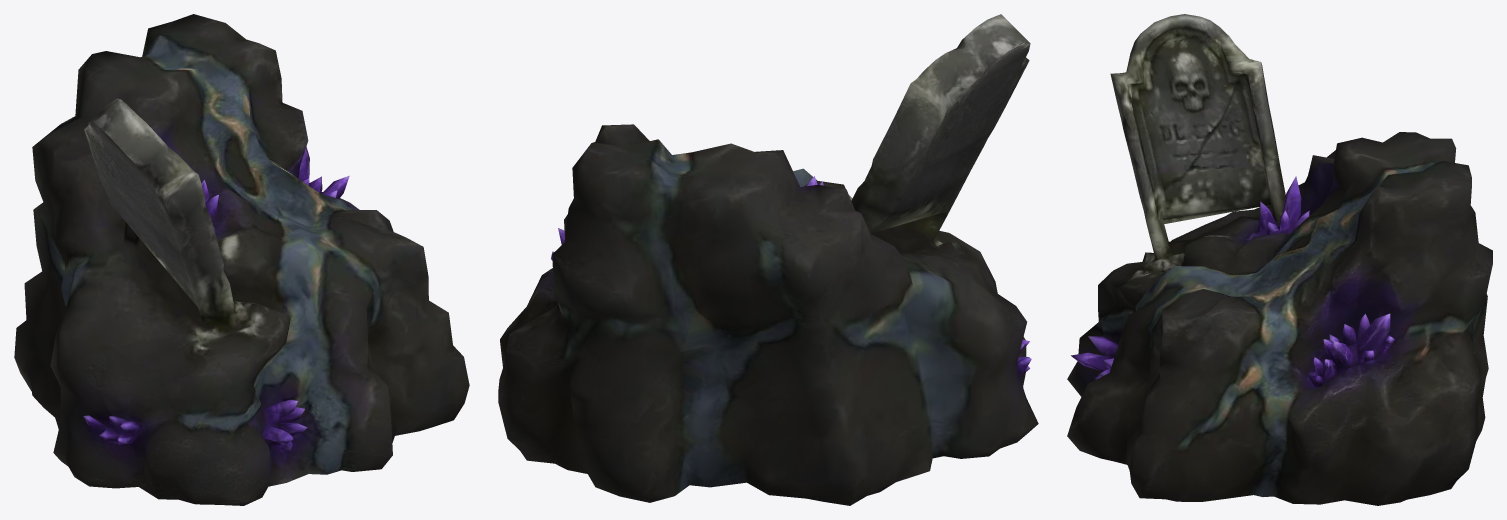
Rendered from prop_node_ore_seam_steel.glb.
3 views of the same model, side by side, from view 1: azimuth 30°, elevation 25°; view 2: azimuth 150°, elevation 25°; view 3: azimuth 270°, elevation 25° (orthographic). The views are drawn at different scales.
Parts seen in each view (by area): view 1: tripo_node_0bf5bb75-011f-4941-bb16-5c0978e515fd; view 2: tripo_node_0bf5bb75-011f-4941-bb16-5c0978e515fd; view 3: tripo_node_0bf5bb75-011f-4941-bb16-5c0978e515fd.
Part boxes in pixels (<box>): tripo_node_0bf5bb75-011f-4941-bb16-5c0978e515fd: <box>14,14,469,505</box>; tripo_node_0bf5bb75-011f-4941-bb16-5c0978e515fd: <box>498,14,1038,505</box>; tripo_node_0bf5bb75-011f-4941-bb16-5c0978e515fd: <box>1067,14,1492,505</box>.
Size of the model in its own units: 0.9786 by 0.8964 by 0.998.
1 material, 1 textured.
